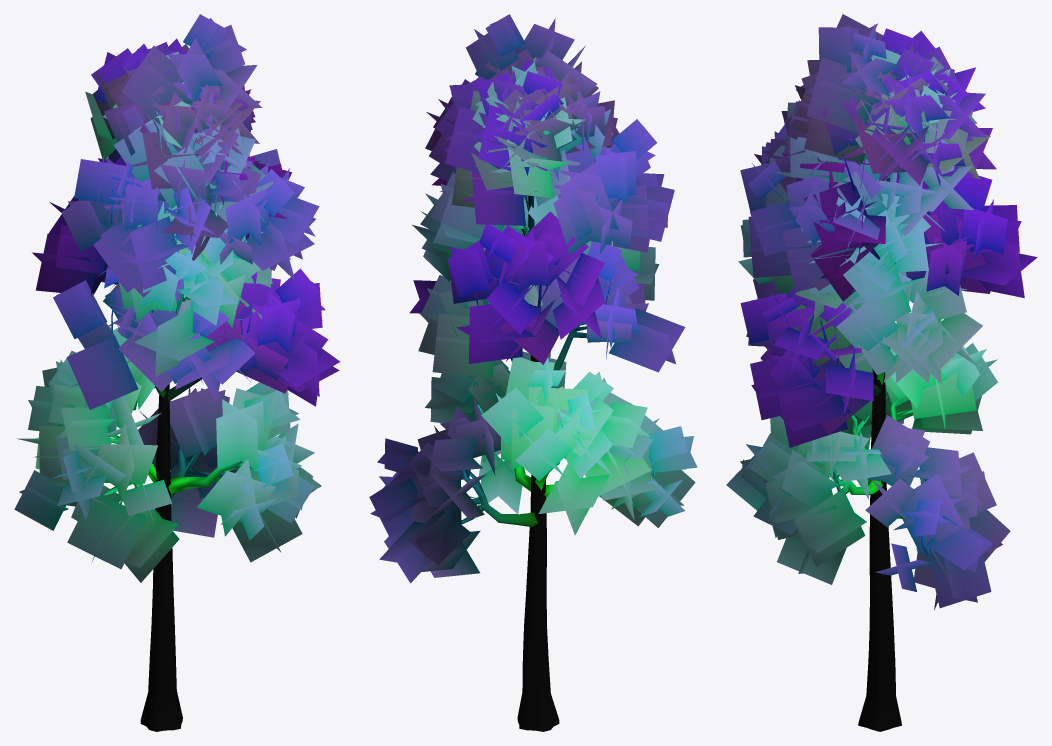
File: foliage_tree_large_005.fbx
The picture shows the model from 3 angles, left to right: view 1: azimuth 30°, elevation 25°; view 2: azimuth 150°, elevation 25°; view 3: azimuth 270°, elevation 25°; orthographic projection. The views are drawn at different scales.
Parts seen in each view (by area): view 1: tree2; view 2: tree2; view 3: tree2.
Boxes of the visible parts, bbox=[...] form: tree2: bbox=[14, 14, 340, 731]; tree2: bbox=[369, 14, 697, 731]; tree2: bbox=[726, 14, 1037, 731].
Bounding box in the file's own units: 603 × 1355 × 535.
